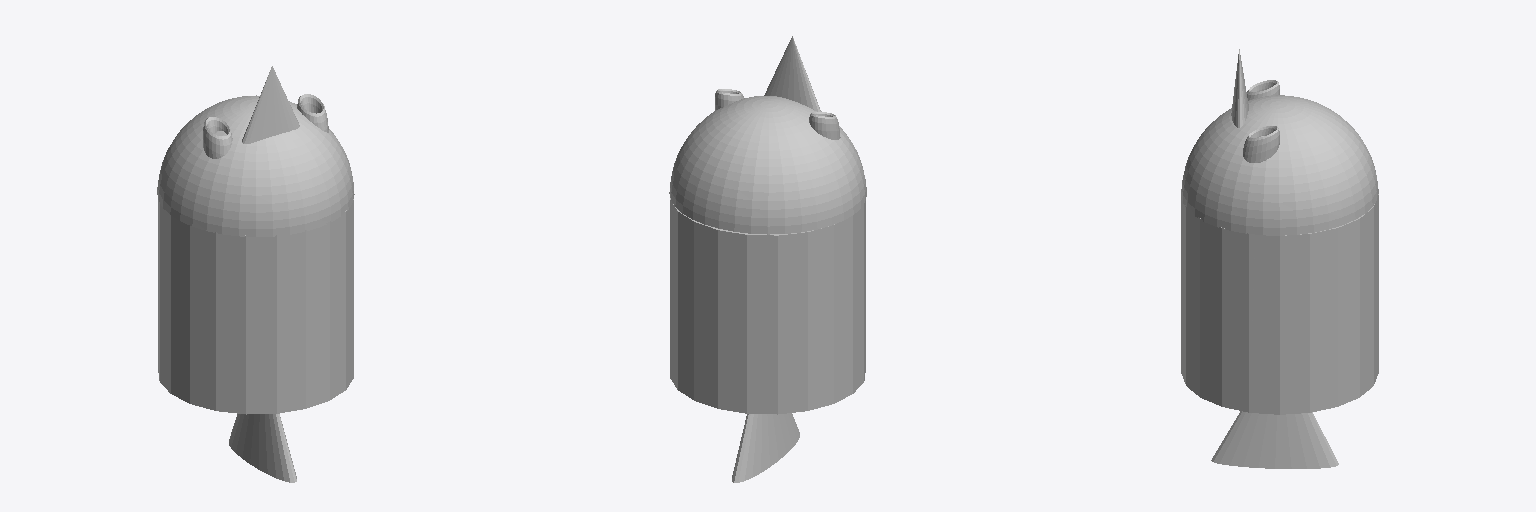
Rendered from tinker.obj.
3 views of the same model, side by side, from view 1: azimuth 30°, elevation 25°; view 2: azimuth 150°, elevation 25°; view 3: azimuth 270°, elevation 25° (orthographic).
Visible parts, largest first — view 1: obj_0; view 2: obj_0; view 3: obj_0.
Boxes of the visible parts, x1=… form: obj_0: x1=157, y1=66, x2=354, y2=482; obj_0: x1=669, y1=36, x2=866, y2=482; obj_0: x1=1181, y1=49, x2=1378, y2=468.
Bounding box in the file's own units: 20.04 × 46.17 × 20.